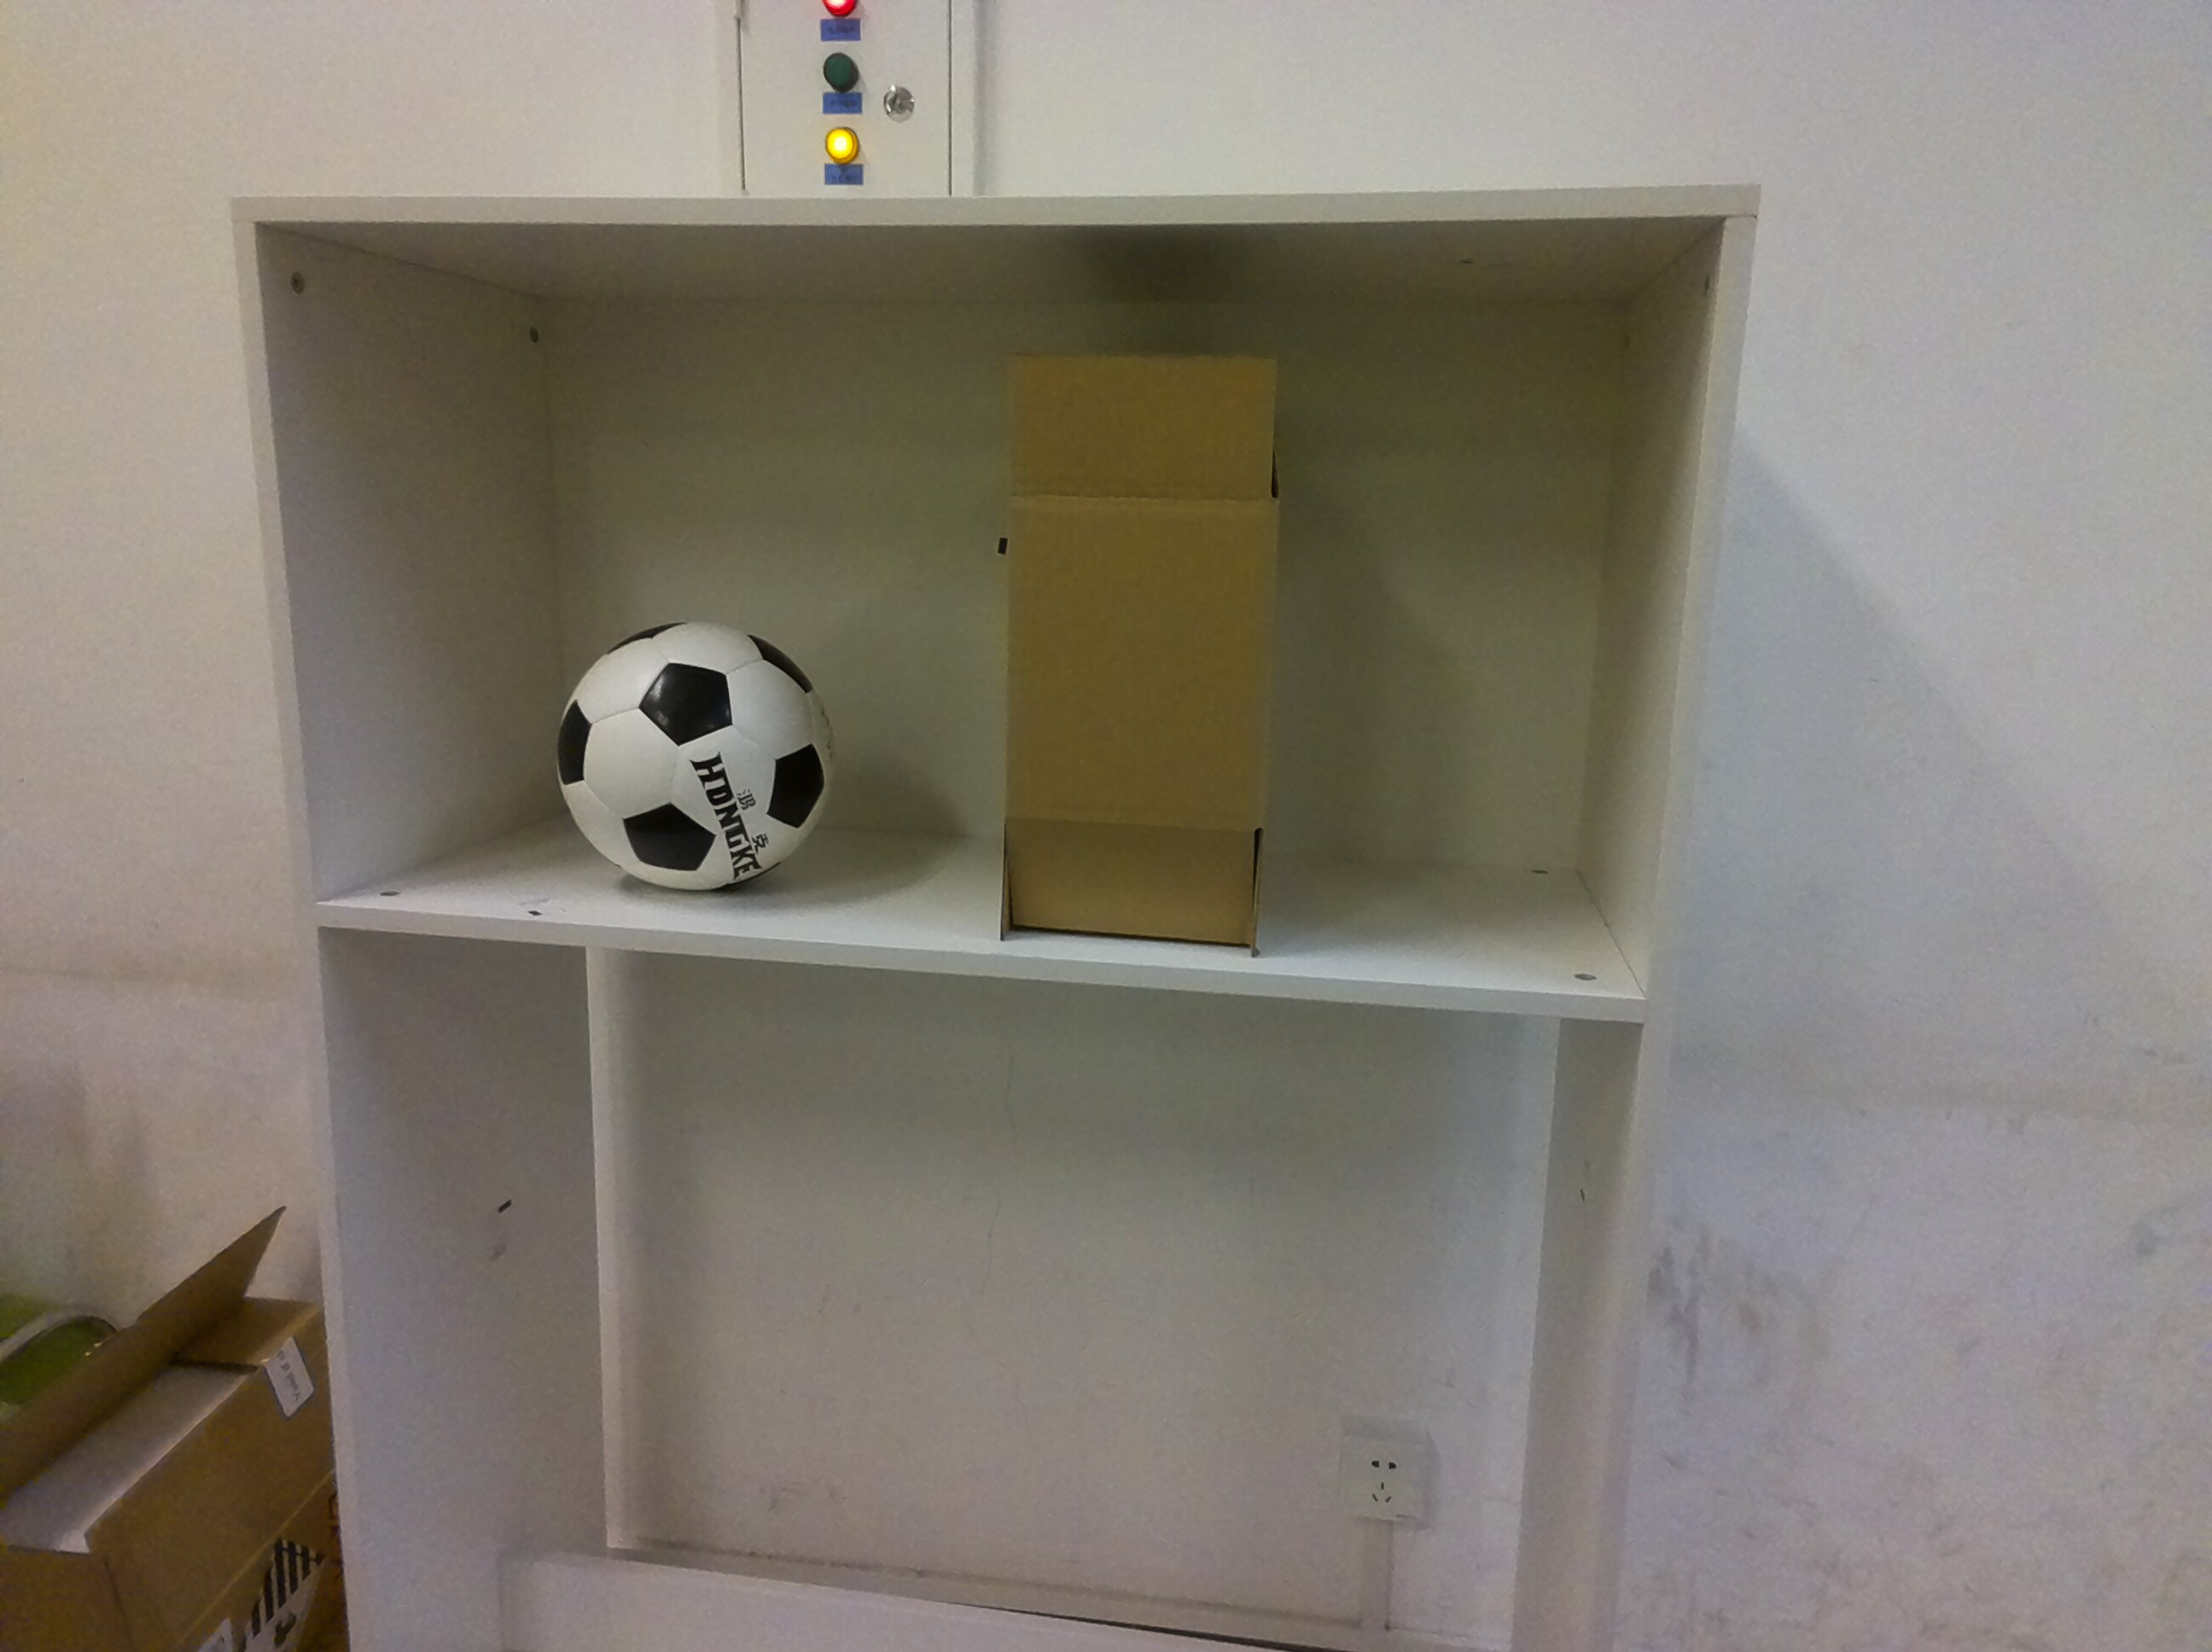football: (543, 618, 861, 902)
